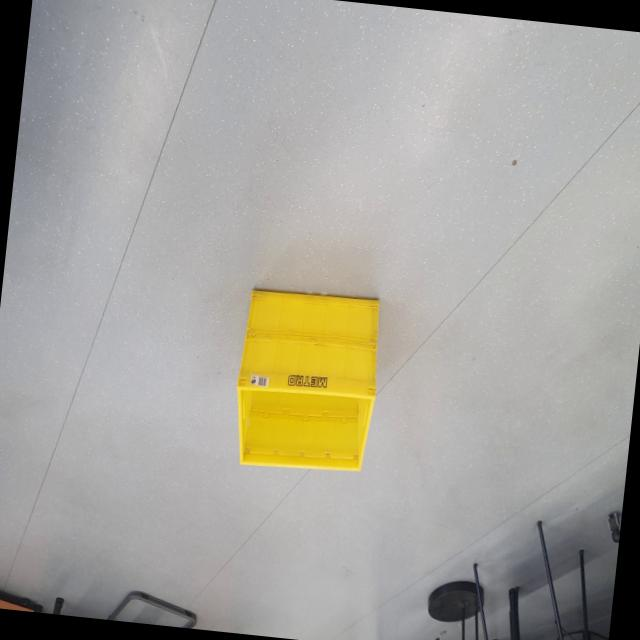box: (216, 243, 402, 500)
